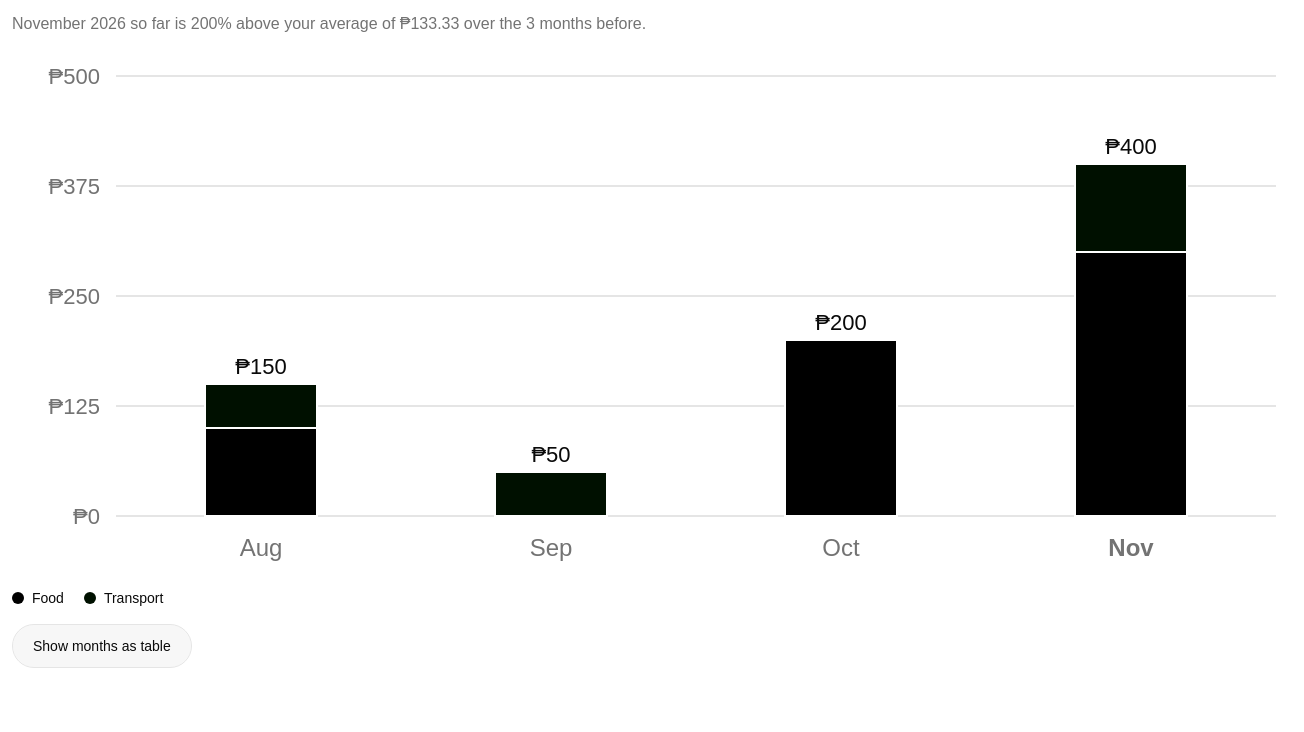
Test: TrendsChart › draws a stacked bar per month with an accessible summary, and a table with every number
Step 1. Click the button "Show months as table" → (102, 646), box 12,624 -> 192,668
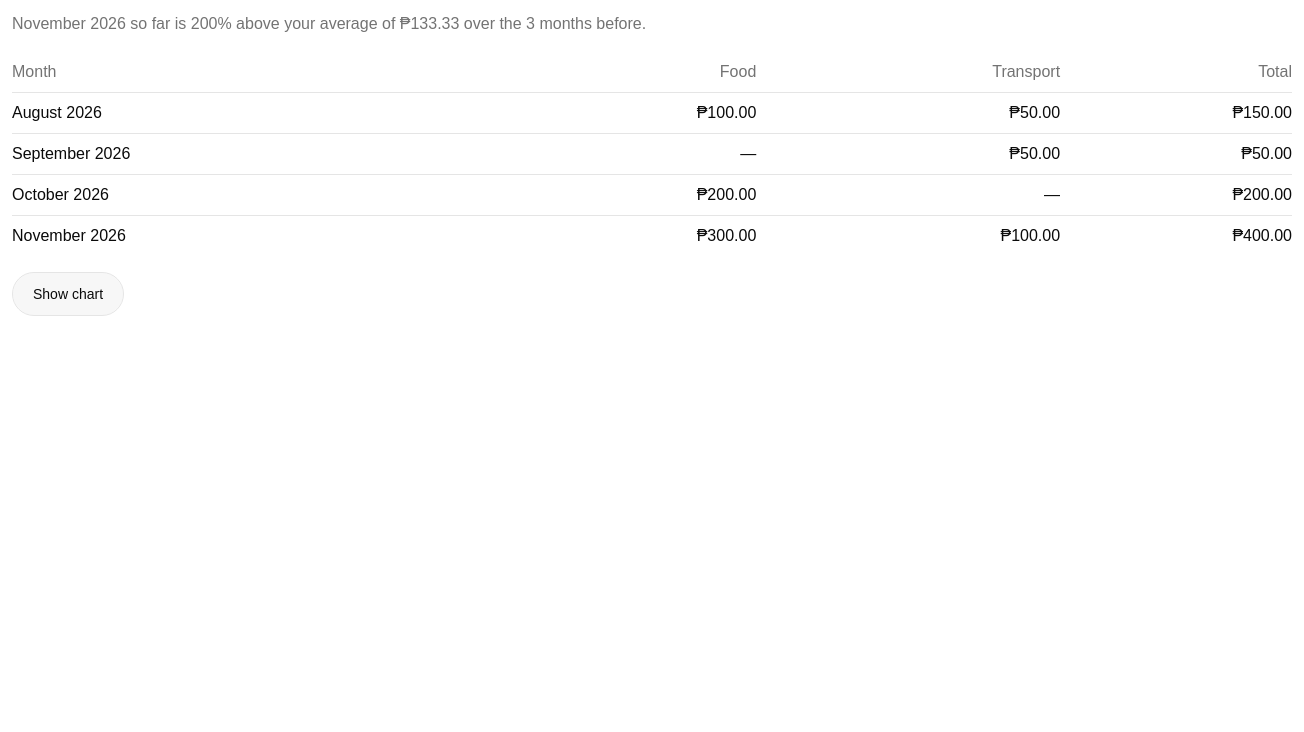
Expected: the text "November 2026" shows "₱300.00", 697,227 -> 756,244
Expected: the text "November 2026" shows "₱100.00", 1000,227 -> 1060,244
Expected: the text "November 2026" shows "₱400.00", 1232,227 -> 1292,244
